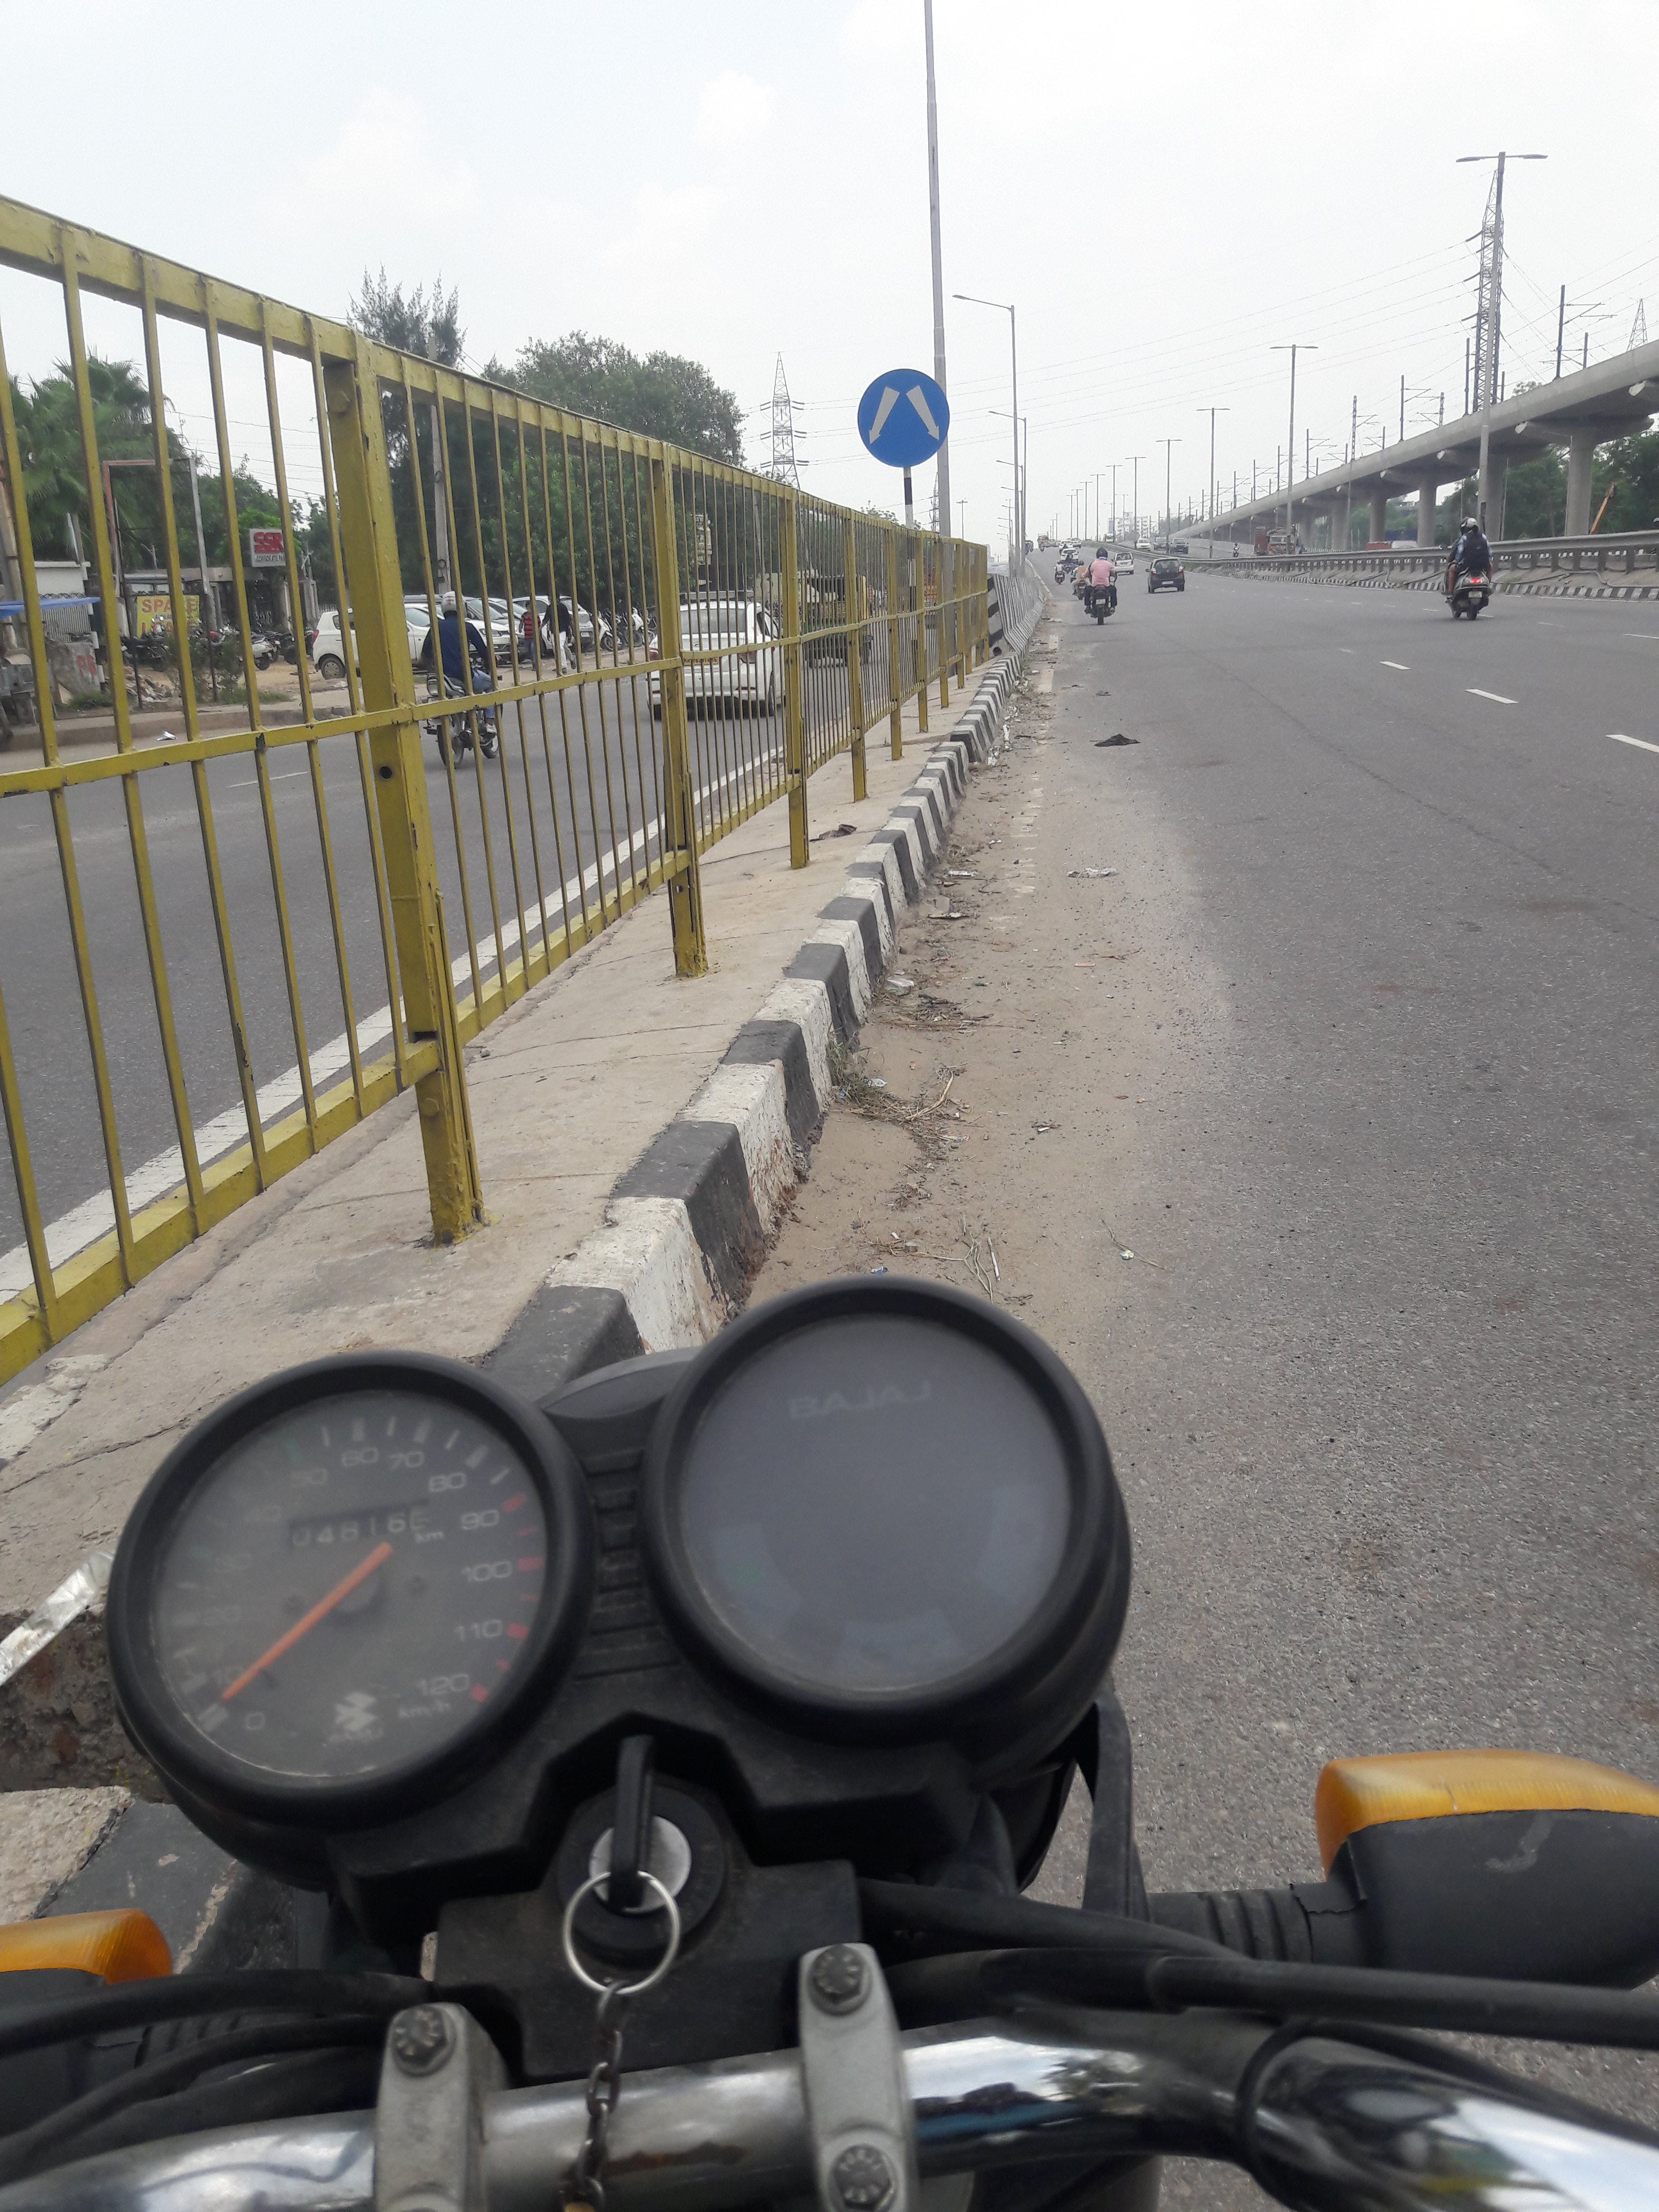traffic_sign: (857, 369, 950, 469)
